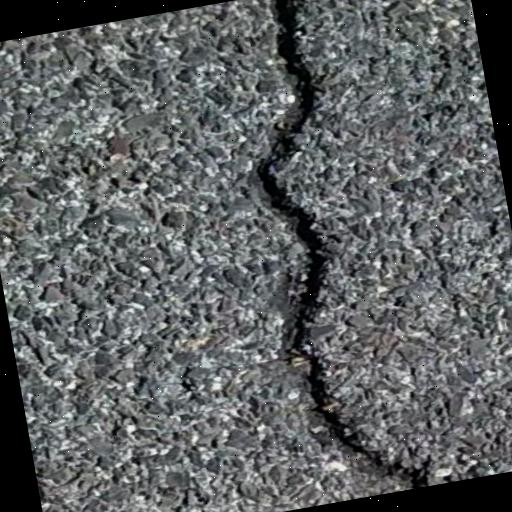spalling: (247, 0, 435, 487)
